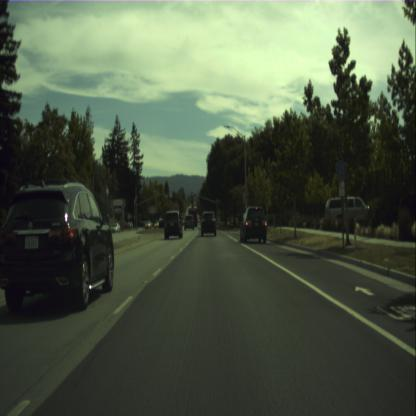Green: (194, 194, 196, 199)
Red: (182, 193, 184, 199)
